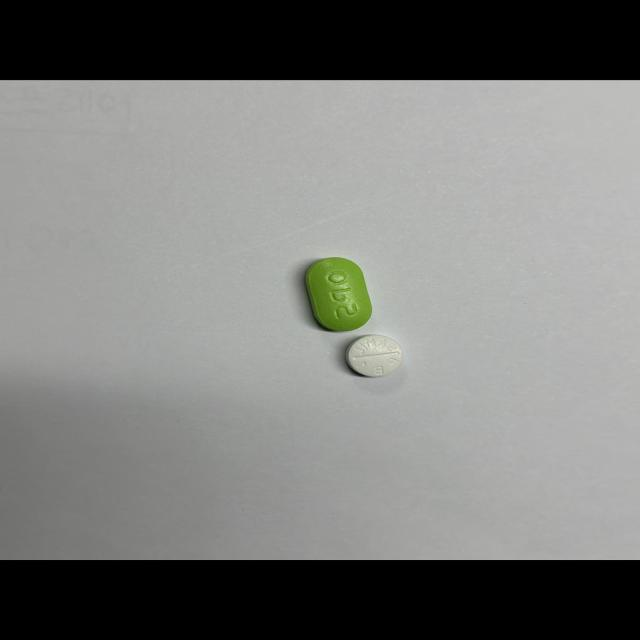Piller: (305, 258, 372, 331), (347, 335, 403, 378)
